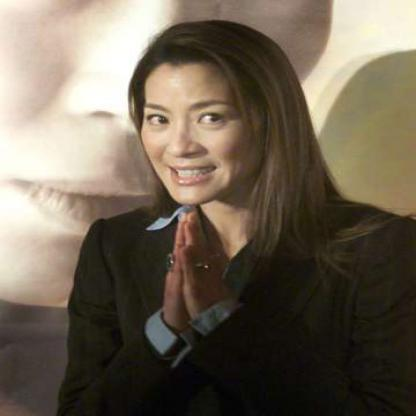face: (133, 33, 263, 209)
